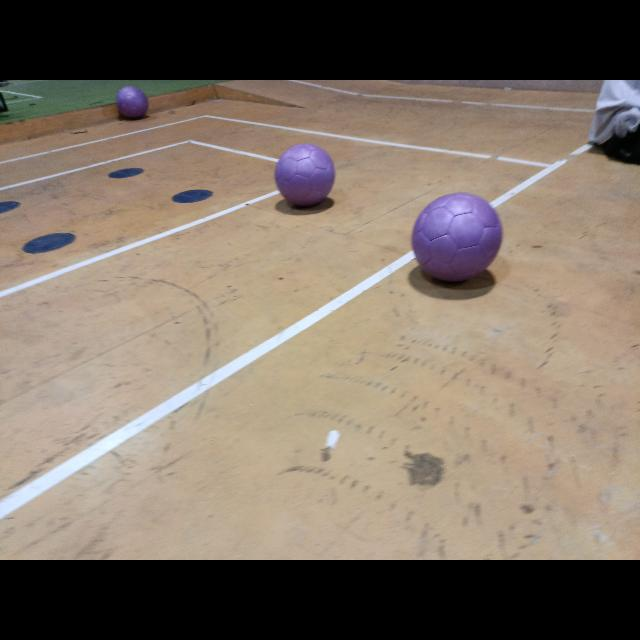P: (412, 193, 502, 281), (276, 144, 334, 206), (116, 85, 148, 118)
